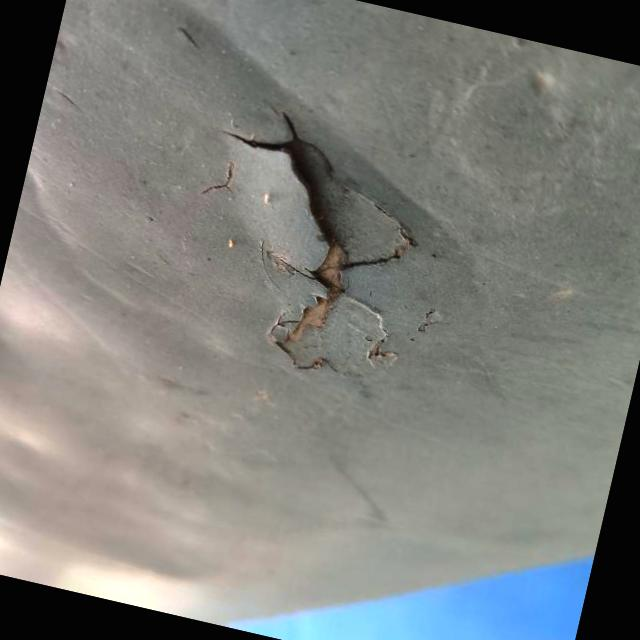crack: (160, 88, 460, 412)
